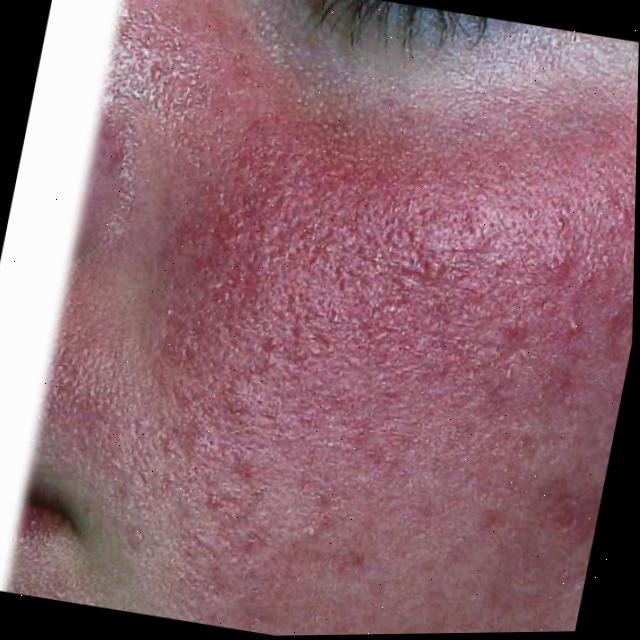Rosacea: (78, 98, 638, 587)
